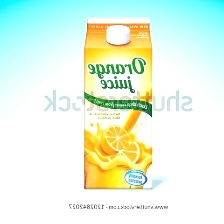carton: (79, 16, 156, 193)
